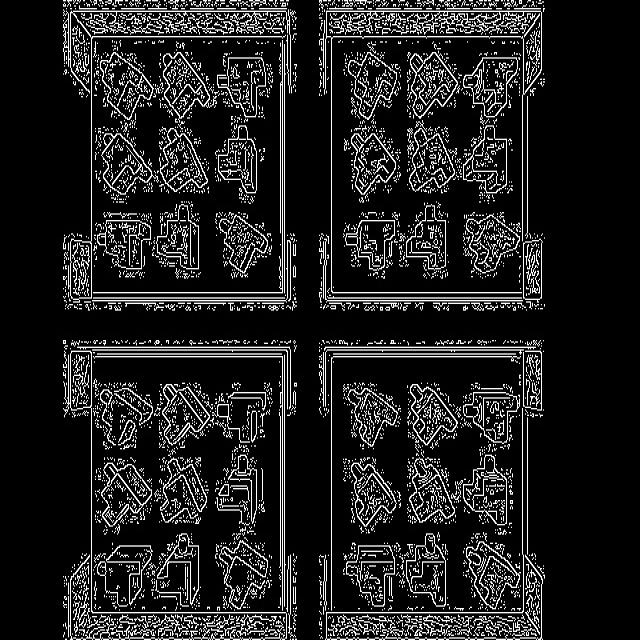Sensor: (213, 536, 273, 610), (344, 43, 400, 122), (344, 123, 400, 202), (341, 384, 401, 456), (96, 542, 159, 610), (95, 128, 152, 203), (342, 542, 402, 611), (463, 378, 520, 450), (402, 536, 459, 608), (464, 538, 518, 612), (406, 379, 459, 454), (158, 378, 212, 451), (462, 206, 516, 278), (462, 125, 512, 202), (342, 466, 402, 529), (216, 212, 272, 278), (154, 460, 209, 527), (408, 122, 459, 193), (463, 454, 516, 522), (101, 52, 154, 120), (96, 212, 151, 277), (152, 202, 199, 278), (212, 452, 263, 522), (406, 205, 453, 280), (218, 380, 268, 449), (345, 213, 398, 278), (462, 57, 518, 118), (154, 533, 202, 604), (408, 52, 459, 118), (409, 460, 459, 526), (98, 388, 154, 446), (218, 125, 258, 202), (160, 128, 208, 192), (164, 52, 210, 118), (218, 58, 268, 117), (102, 465, 153, 522)
